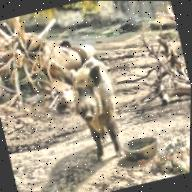boar: (61, 52, 130, 165)
